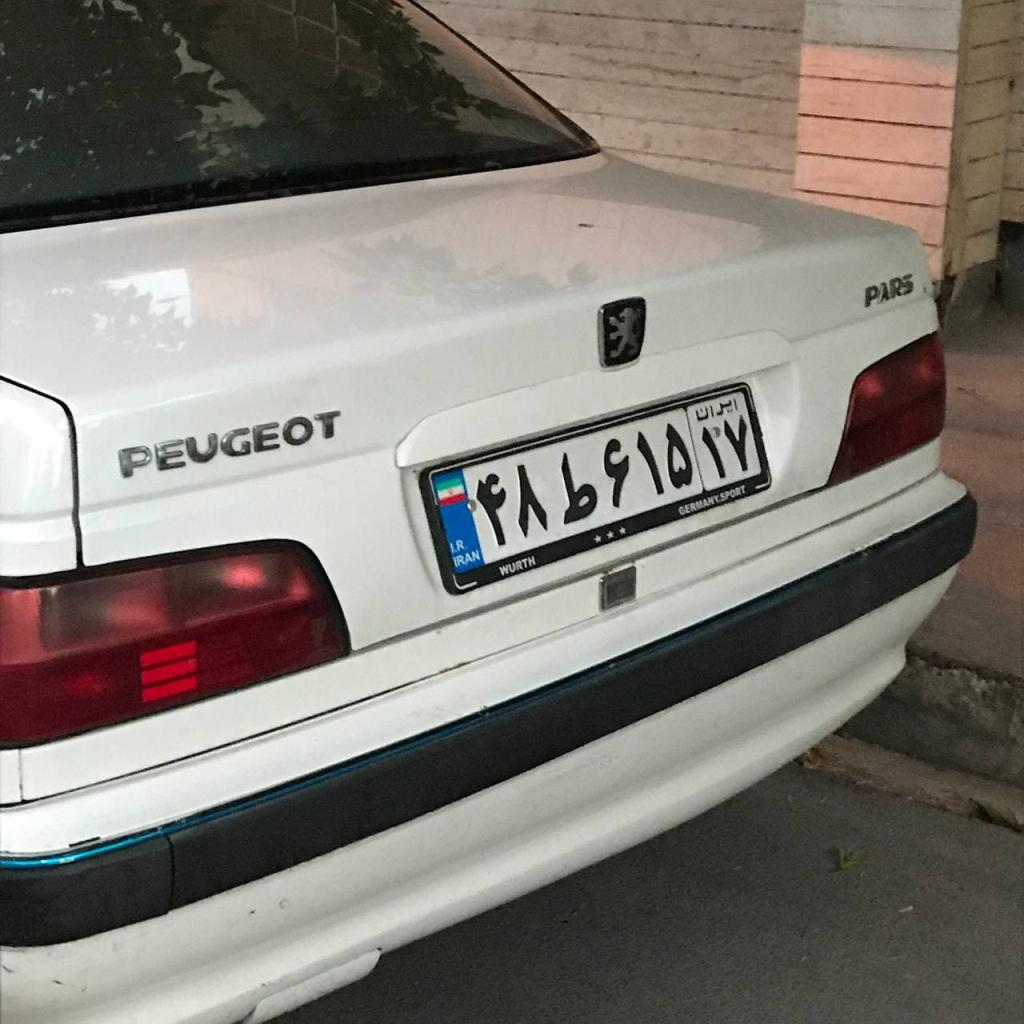Plates: (430, 389, 763, 574)
